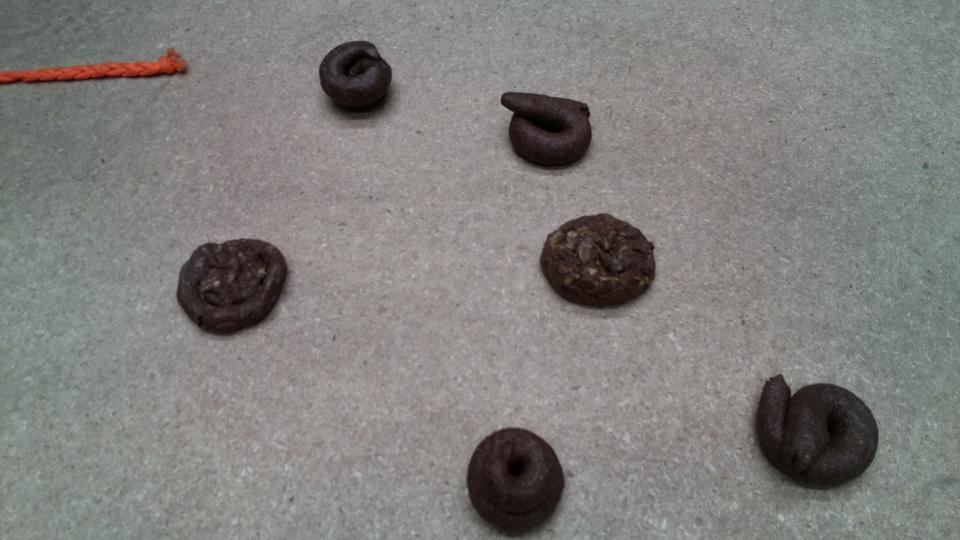poop: (751, 368, 880, 494), (537, 211, 661, 312), (173, 234, 290, 339), (463, 426, 567, 536), (498, 89, 595, 172), (317, 38, 395, 118)
rope: (1, 44, 190, 88)
